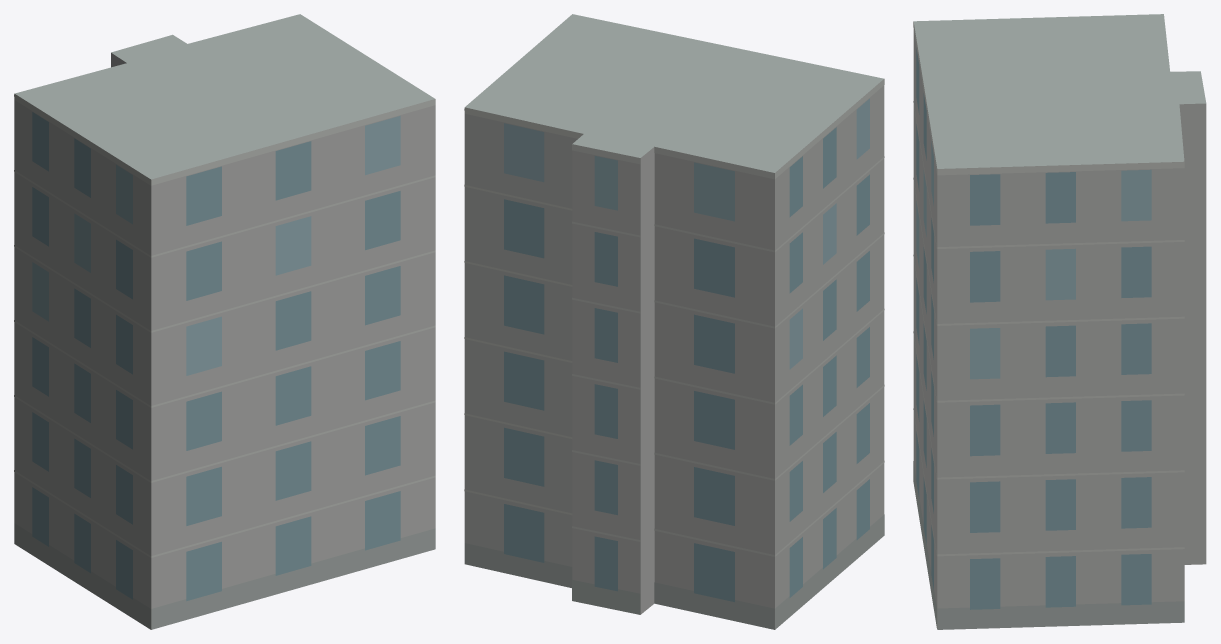
The model's file is survey-upis-32701706.glb.
3 renders of one model, left to right at view 1: azimuth 30°, elevation 25°; view 2: azimuth 150°, elevation 25°; view 3: azimuth 270°, elevation 25°, orthographic. The views are drawn at different scales.
Visible parts, largest first — view 1: survey-upis-32701706.tmp; view 2: survey-upis-32701706.tmp; view 3: survey-upis-32701706.tmp.
Boxes of the visible parts, x1=… form: survey-upis-32701706.tmp: x1=14, y1=14, x2=435, y2=629; survey-upis-32701706.tmp: x1=464, y1=14, x2=884, y2=629; survey-upis-32701706.tmp: x1=913, y1=14, x2=1206, y2=629.
Size of the model in its own units: 12.72 by 17.6 by 10.16.
